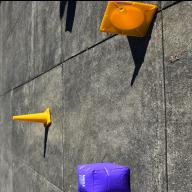cone: (100, 1, 158, 36), (13, 107, 51, 127)
cube: (76, 161, 130, 192)
